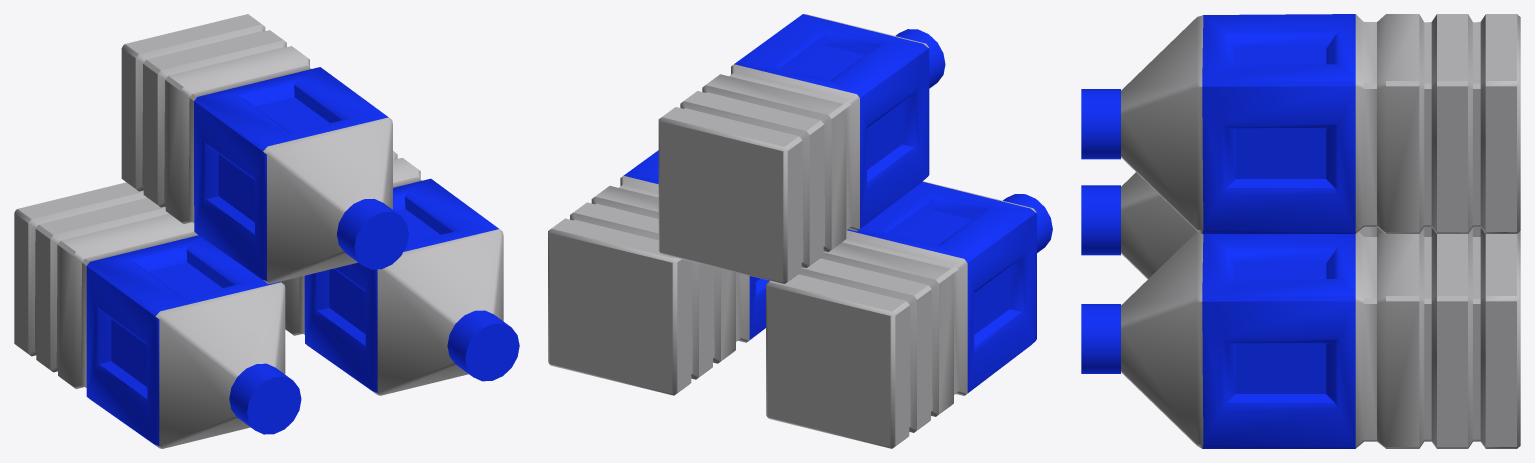
Rendered from Plastic_00.fbx.
The picture shows the model from 3 angles, left to right: view 1: azimuth 30°, elevation 25°; view 2: azimuth 150°, elevation 25°; view 3: azimuth 270°, elevation 25°; orthographic projection. The views are drawn at different scales.
Parts seen in each view (by area): view 1: Sphere.006; view 2: Sphere.006; view 3: Sphere.006.
Part boxes in pixels (x1,y1,x2,y2): Sphere.006: (14,14,519,448); Sphere.006: (548,14,1052,448); Sphere.006: (1081,14,1520,448).
Size of the model in its own units: 103 by 78.21 by 101.
